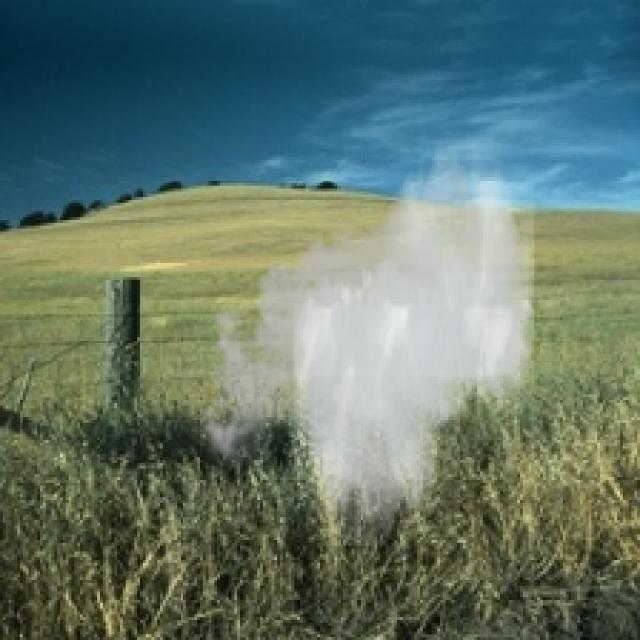smoke: (192, 137, 534, 546)
